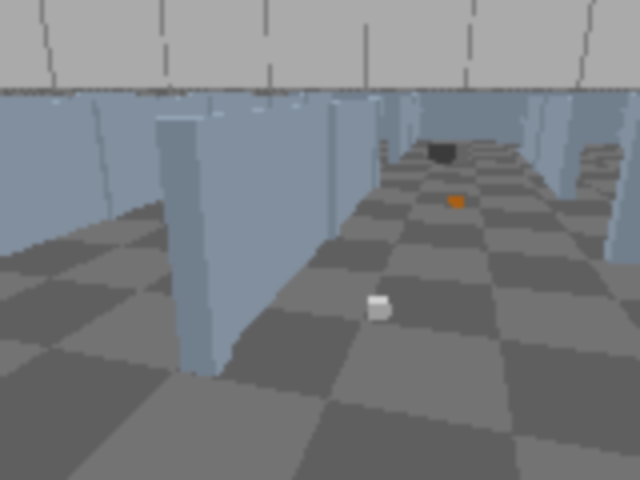obstacle: (426, 141, 469, 164)
puck: (368, 296, 391, 321)
